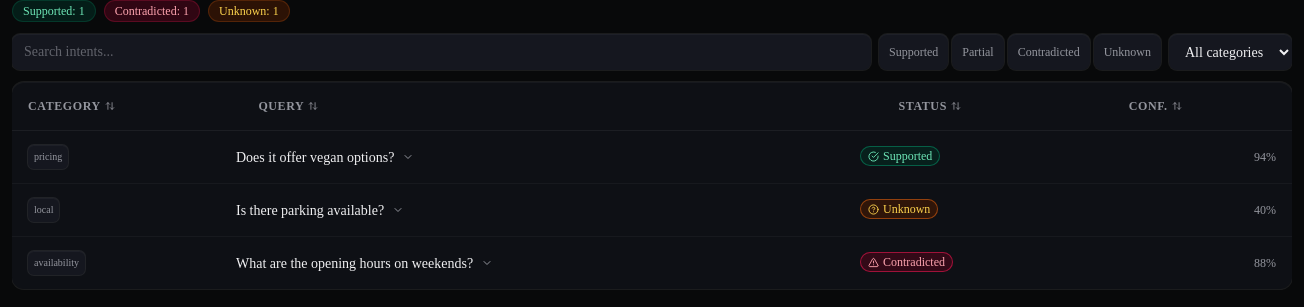
Test: IntentMatrix - search filter › filters rows by query text
This screenshot has width=1304, height=307.
Type "vegan" into the search field at (442, 52), box [12,34,871,70]
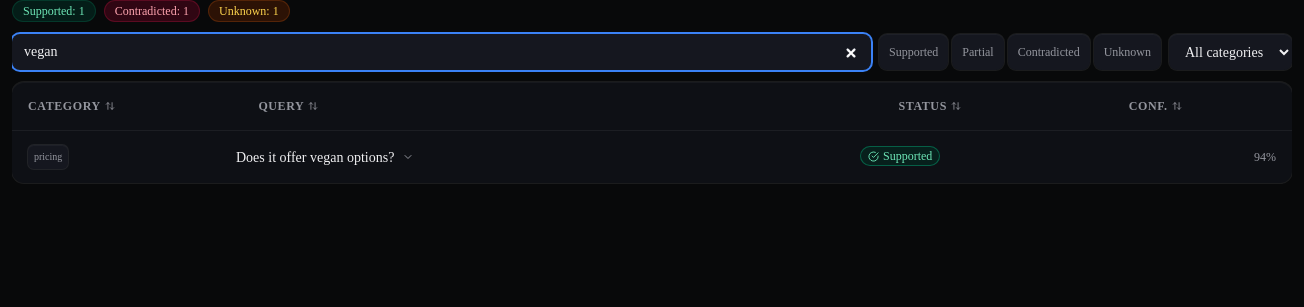
expect the text "Does it offer vegan options?" is shown: met, box [236,146,394,168]
expect the text "What are the opening hours on weekends?" is gone: met
